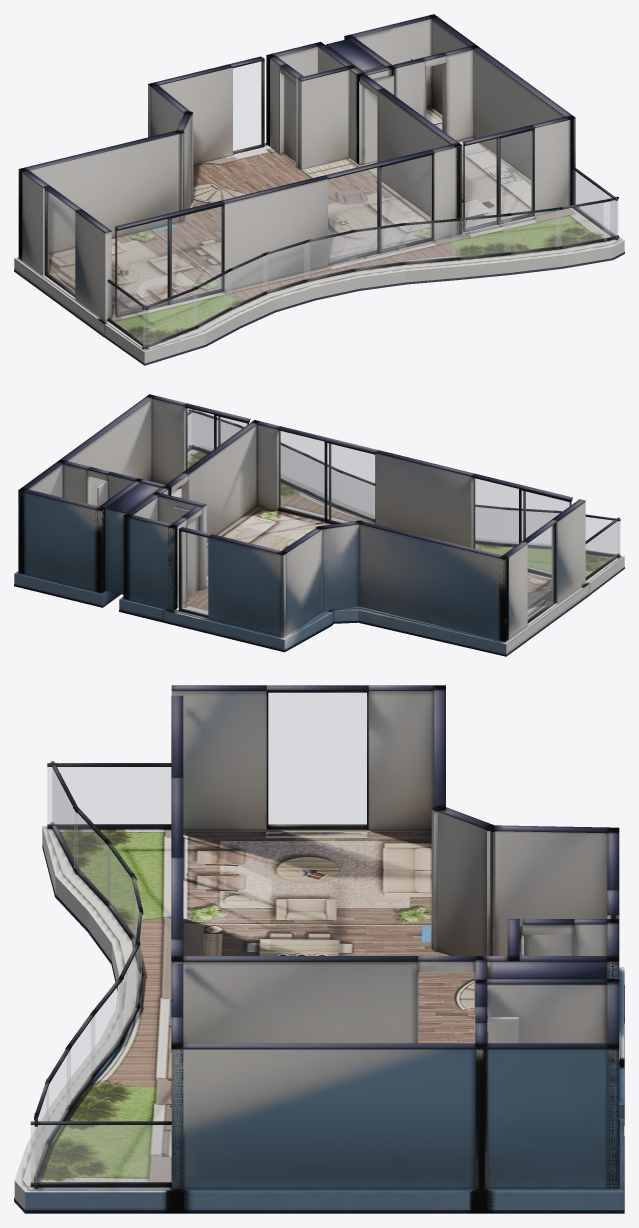
3 views of the same model, one above another, from view 1: azimuth 30°, elevation 25°; view 2: azimuth 150°, elevation 25°; view 3: azimuth 270°, elevation 25° (orthographic). The views are drawn at different scales.
Parts seen in each view (by area): view 1: plan, glass0_m, glass1_m, glass2_m, glass4_m, glass3_m, railg6_m, railg5_m, railg4_m, railg7_m, railg3_m, railg12_m (+7 smaller); view 2: plan, glass1_m, glass0_m, glass4_m, glass3_m, glass2_m, railg1_m, railg12_m, railg7_m, railg10_m, railg5_m, railg11_m (+2 smaller); view 3: plan, glass3_m, railg0_m, railg1_m, railg11_m, railg6_m, railg5_m, railg10_m, railg12_m, railg4_m, railg7_m.
Part boxes in pixels (left/top/right/bottom): plan: left=14, top=14, right=624, bottom=365; glass0_m: left=116, top=206, right=221, bottom=314; glass1_m: left=328, top=155, right=431, bottom=262; glass2_m: left=464, top=131, right=532, bottom=229; glass4_m: left=233, top=61, right=261, bottom=151; glass3_m: left=47, top=191, right=74, bottom=293; railg6_m: left=399, top=221, right=458, bottom=261; railg5_m: left=452, top=216, right=510, bottom=257; railg4_m: left=504, top=210, right=561, bottom=252; railg7_m: left=350, top=226, right=405, bottom=268; railg3_m: left=555, top=201, right=609, bottom=246; railg12_m: left=143, top=289, right=197, bottom=345; plan: left=14, top=394, right=624, bottom=656; glass1_m: left=279, top=431, right=374, bottom=523; glass0_m: left=473, top=478, right=571, bottom=573; glass4_m: left=181, top=532, right=207, bottom=614; glass3_m: left=528, top=525, right=553, bottom=619; glass2_m: left=185, top=408, right=246, bottom=469; railg1_m: left=586, top=521, right=618, bottom=576; railg12_m: left=586, top=517, right=620, bottom=554; railg7_m: left=343, top=474, right=372, bottom=517; railg10_m: left=476, top=507, right=503, bottom=542; railg5_m: left=281, top=445, right=304, bottom=488; railg11_m: left=510, top=510, right=555, bottom=543; plan: left=14, top=685, right=624, bottom=1213; glass3_m: left=268, top=693, right=366, bottom=824; railg0_m: left=31, top=1125, right=171, bottom=1182; railg1_m: left=47, top=767, right=170, bottom=824; railg11_m: left=74, top=810, right=110, bottom=904; railg6_m: left=91, top=981, right=122, bottom=1074; railg5_m: left=67, top=1016, right=94, bottom=1108; railg10_m: left=107, top=845, right=134, bottom=937; railg12_m: left=52, top=768, right=77, bottom=870; railg4_m: left=46, top=1050, right=70, bottom=1138; railg7_m: left=119, top=949, right=138, bottom=1040.
Size of the model in its own units: 12.69 by 2.62 by 8.91.
2 materials, 1 textured.
